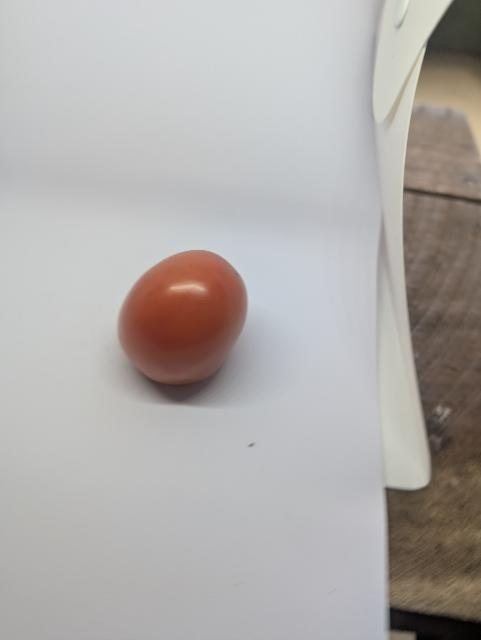red: (116, 248, 251, 388)
